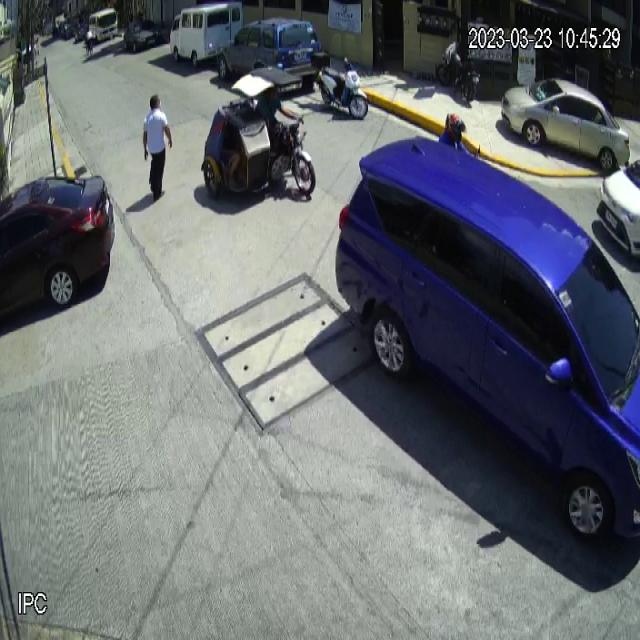Car: (335, 135, 640, 546), (0, 174, 115, 324), (500, 78, 630, 174), (218, 17, 324, 99)
Motorcycle: (312, 48, 369, 120)
Tricycle: (200, 68, 316, 202)
Van: (170, 1, 245, 67)
